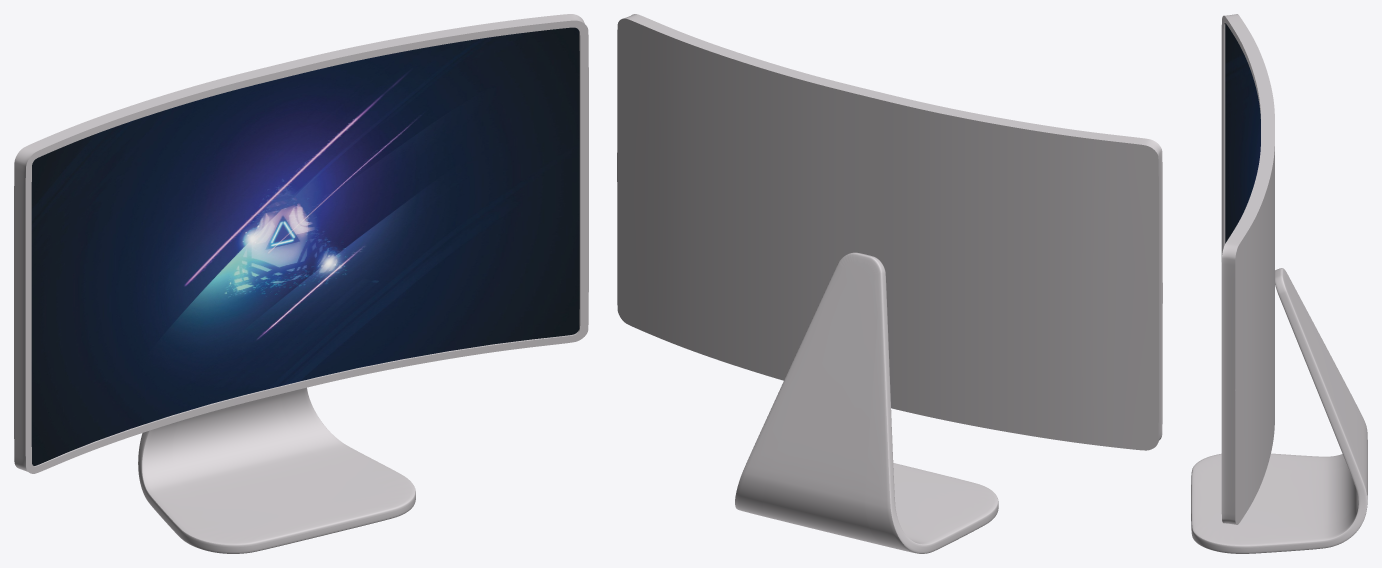
3 views of the same model, side by side, from view 1: azimuth 30°, elevation 25°; view 2: azimuth 150°, elevation 25°; view 3: azimuth 270°, elevation 25° (orthographic). The views are drawn at different scales.
Parts seen in each view (by area): view 1: Monitor, Plane.001; view 2: Monitor, Plane.001; view 3: Monitor, Plane.001.
Part boxes in pixels (<box>): Monitor: <box>14,14,588,473</box>; Plane.001: <box>138,387,415,553</box>; Monitor: <box>617,14,1162,450</box>; Plane.001: <box>735,252,998,553</box>; Monitor: <box>1221,14,1274,524</box>; Plane.001: <box>1191,268,1367,553</box>.
Size of the model in its own units: 2.78 by 2.03 by 0.8615.
2 materials, 1 textured.
